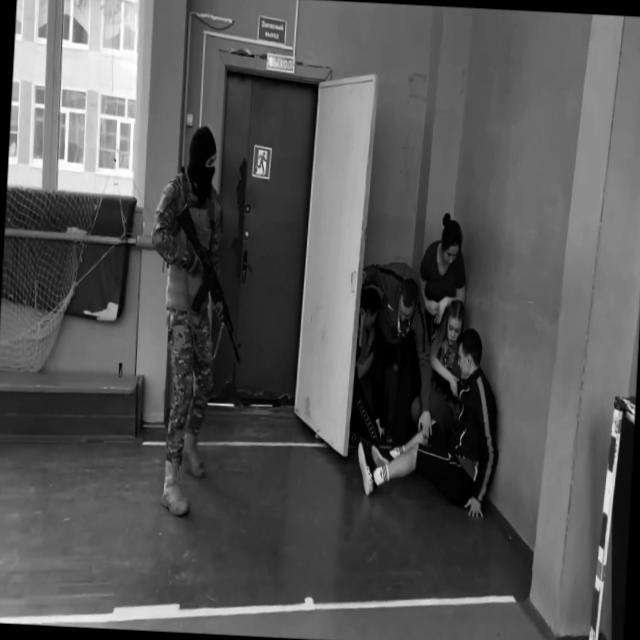gun: (167, 198, 252, 369)
person: (354, 321, 506, 522), (356, 258, 440, 448), (411, 301, 469, 438), (416, 208, 471, 342), (351, 286, 388, 456)
person with a gun: (137, 121, 256, 520)
